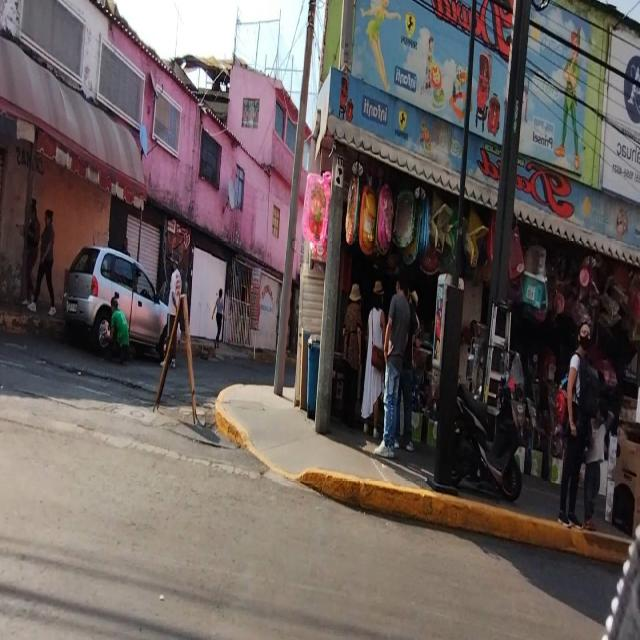adult: (558, 322, 594, 528), (375, 268, 410, 458), (581, 396, 614, 528), (362, 280, 386, 438), (342, 284, 363, 425), (161, 259, 182, 366), (104, 296, 131, 359)
